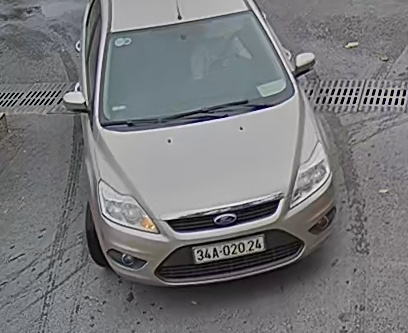vehicle plate: (186, 233, 264, 265)
